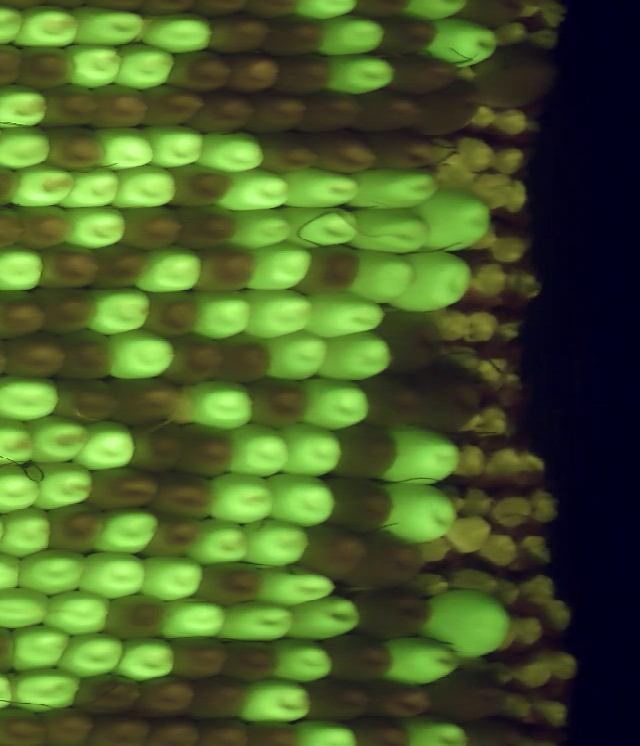fluorescent: (419, 582, 516, 667), (381, 420, 470, 493), (394, 246, 477, 319), (416, 183, 495, 257), (376, 478, 460, 547), (345, 201, 438, 261), (301, 285, 392, 346), (375, 631, 465, 691), (234, 284, 321, 346), (315, 324, 397, 389), (348, 160, 445, 214), (262, 468, 342, 533), (130, 239, 210, 303), (101, 326, 182, 389), (232, 671, 319, 729), (215, 419, 297, 479), (295, 375, 374, 437), (71, 546, 154, 605), (278, 200, 365, 256), (425, 10, 506, 70), (278, 160, 367, 214), (3, 662, 86, 719), (349, 244, 422, 308), (274, 419, 348, 482), (184, 374, 256, 438), (13, 545, 94, 601), (85, 119, 163, 177), (24, 456, 102, 514), (79, 282, 153, 343), (4, 619, 79, 679), (236, 515, 317, 570), (204, 469, 278, 529), (183, 511, 257, 571), (88, 503, 167, 559), (244, 239, 320, 297), (186, 284, 259, 344), (218, 595, 300, 648), (25, 407, 97, 467), (215, 165, 299, 216), (319, 49, 401, 101), (136, 9, 221, 59), (259, 329, 336, 384), (194, 125, 272, 179), (139, 119, 215, 174), (247, 566, 341, 610), (289, 593, 365, 647), (314, 10, 391, 63), (0, 369, 69, 428), (134, 550, 208, 605), (67, 2, 151, 50), (73, 416, 141, 475), (265, 634, 342, 685), (56, 629, 131, 681), (109, 160, 181, 214), (59, 199, 132, 252), (153, 595, 233, 643), (9, 160, 81, 213), (10, 3, 86, 53), (110, 39, 180, 93), (0, 502, 60, 565), (217, 206, 294, 253), (113, 633, 181, 686), (61, 38, 126, 92), (42, 589, 115, 636), (55, 163, 125, 211), (0, 79, 55, 134), (0, 122, 58, 174), (0, 241, 52, 298), (0, 584, 56, 634), (0, 461, 47, 520), (0, 412, 44, 475), (398, 711, 476, 746), (282, 715, 364, 746), (0, 1, 35, 50), (0, 547, 30, 599)
nonfluorescent: (473, 40, 570, 113), (412, 356, 489, 438), (343, 583, 441, 645), (422, 664, 513, 728), (374, 306, 452, 380), (317, 474, 402, 539), (345, 526, 427, 593), (297, 516, 374, 586), (315, 630, 406, 689), (358, 368, 433, 439), (119, 413, 197, 477), (331, 420, 403, 486), (80, 462, 168, 516), (408, 79, 483, 142), (45, 372, 129, 428), (349, 85, 430, 143), (143, 464, 219, 525), (172, 415, 239, 484), (107, 374, 188, 431), (190, 553, 268, 611), (380, 49, 466, 101), (300, 671, 379, 727), (161, 157, 238, 214), (0, 327, 73, 387), (31, 281, 106, 339), (209, 45, 286, 101), (100, 591, 177, 647), (40, 497, 110, 558), (240, 375, 312, 434), (309, 125, 384, 181), (170, 198, 245, 254), (189, 241, 262, 298), (133, 668, 203, 727), (38, 120, 110, 177), (356, 674, 438, 724), (293, 88, 370, 141), (84, 80, 158, 135), (161, 331, 232, 388), (36, 78, 108, 134), (73, 670, 149, 723), (252, 10, 329, 62), (365, 125, 443, 176), (201, 6, 272, 62), (189, 85, 262, 139), (136, 80, 210, 133), (369, 6, 439, 62), (10, 41, 81, 96), (162, 45, 238, 96), (241, 86, 311, 141), (86, 239, 156, 294), (57, 325, 119, 386), (33, 241, 103, 295), (266, 48, 338, 100), (164, 631, 235, 683), (216, 633, 284, 687), (217, 327, 277, 388), (184, 674, 255, 725), (139, 509, 209, 560), (119, 204, 187, 256), (253, 126, 322, 176), (142, 284, 200, 343), (301, 243, 364, 297), (12, 201, 77, 253), (0, 285, 56, 342), (33, 702, 105, 746), (184, 711, 257, 746), (448, 1, 528, 32), (344, 709, 411, 746), (87, 712, 156, 746), (0, 702, 53, 746), (140, 714, 201, 746), (238, 717, 305, 746), (0, 205, 30, 257)
